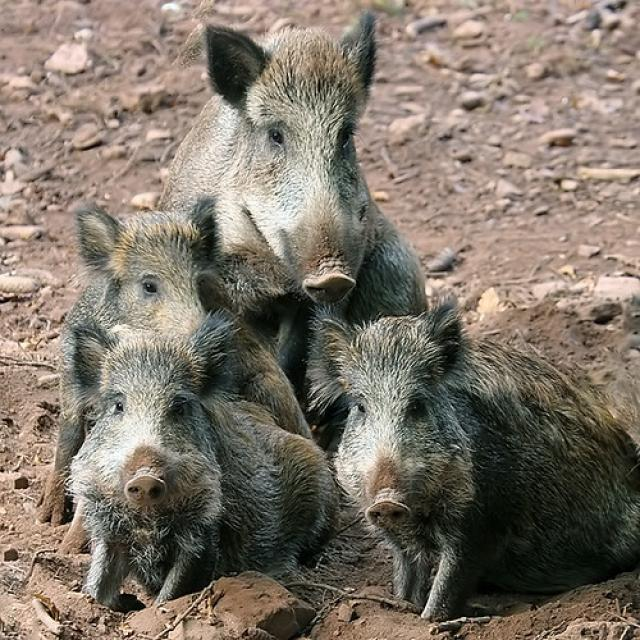boar: (302, 306, 640, 623), (156, 6, 438, 345), (31, 314, 340, 610), (45, 190, 250, 550)
